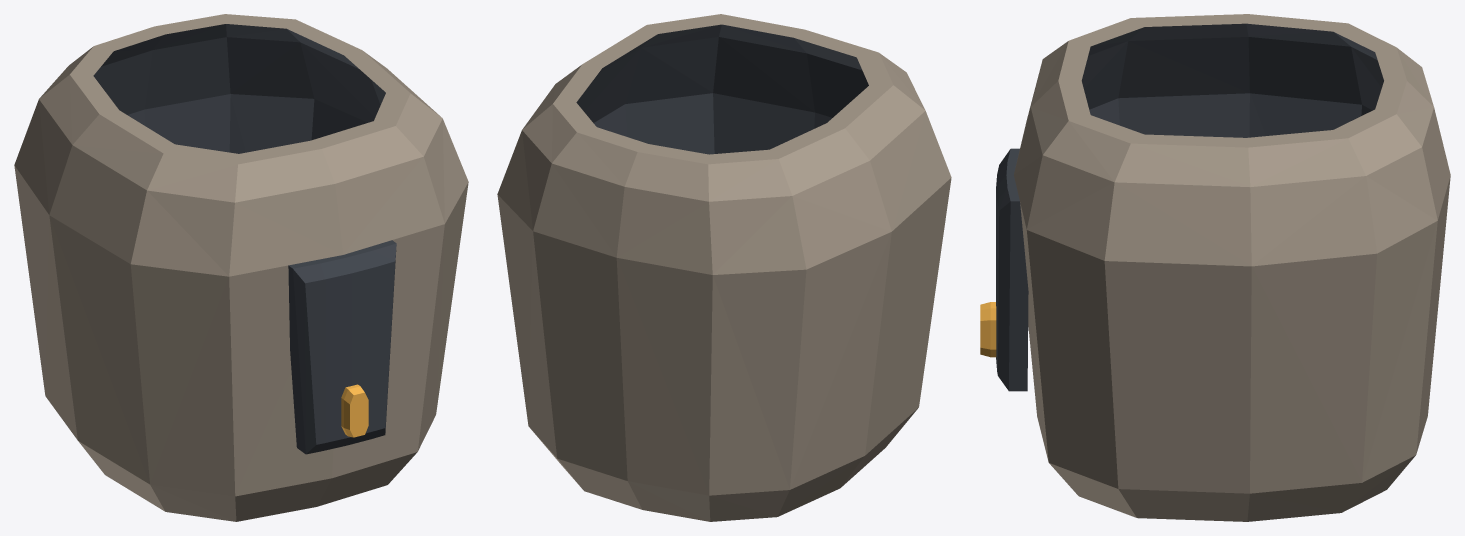
Rendered from forearm_heavy.glb.
The picture shows the model from 3 angles, left to right: view 1: azimuth 30°, elevation 25°; view 2: azimuth 150°, elevation 25°; view 3: azimuth 270°, elevation 25°; orthographic projection. The views are drawn at different scales.
Parts seen in each view (by area): view 1: forearm_heavy; view 2: forearm_heavy; view 3: forearm_heavy.
Part boxes in pixels (x1=…): forearm_heavy: x1=14, y1=14, x2=468, y2=521; forearm_heavy: x1=497, y1=14, x2=951, y2=521; forearm_heavy: x1=980, y1=14, x2=1450, y2=521.
Size of the model in its own units: 1.04 by 1 by 1.13.
